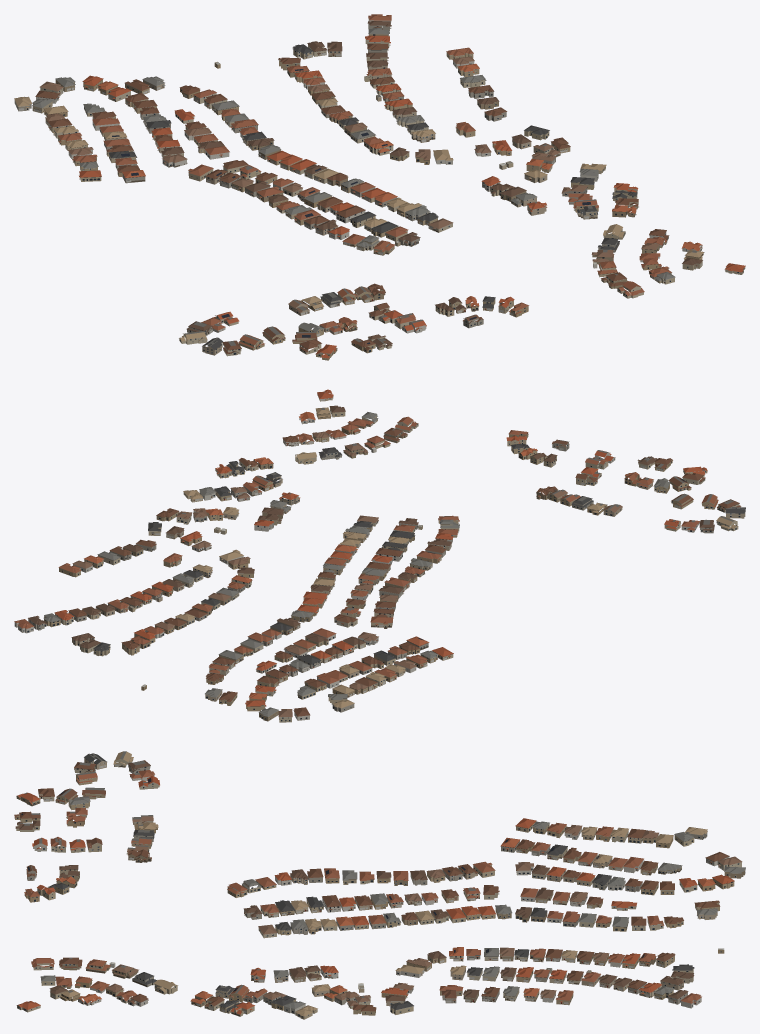
The picture shows the model from 3 angles, top to bottom: view 1: azimuth 30°, elevation 25°; view 2: azimuth 150°, elevation 25°; view 3: azimuth 270°, elevation 25°; orthographic projection. The views are drawn at different scales.
Visible parts, largest first — view 1: buildings_r0_c6_lod0; view 2: buildings_r0_c6_lod0; view 3: buildings_r0_c6_lod0.
Boxes of the visible parts, left/top/right/bottom form: buildings_r0_c6_lod0: left=14, top=14, right=745, bottom=360; buildings_r0_c6_lod0: left=14, top=389, right=745, bottom=722; buildings_r0_c6_lod0: left=14, top=751, right=745, bottom=1019.
Bounding box in the file's own units: 572 × 46.74 × 724.
